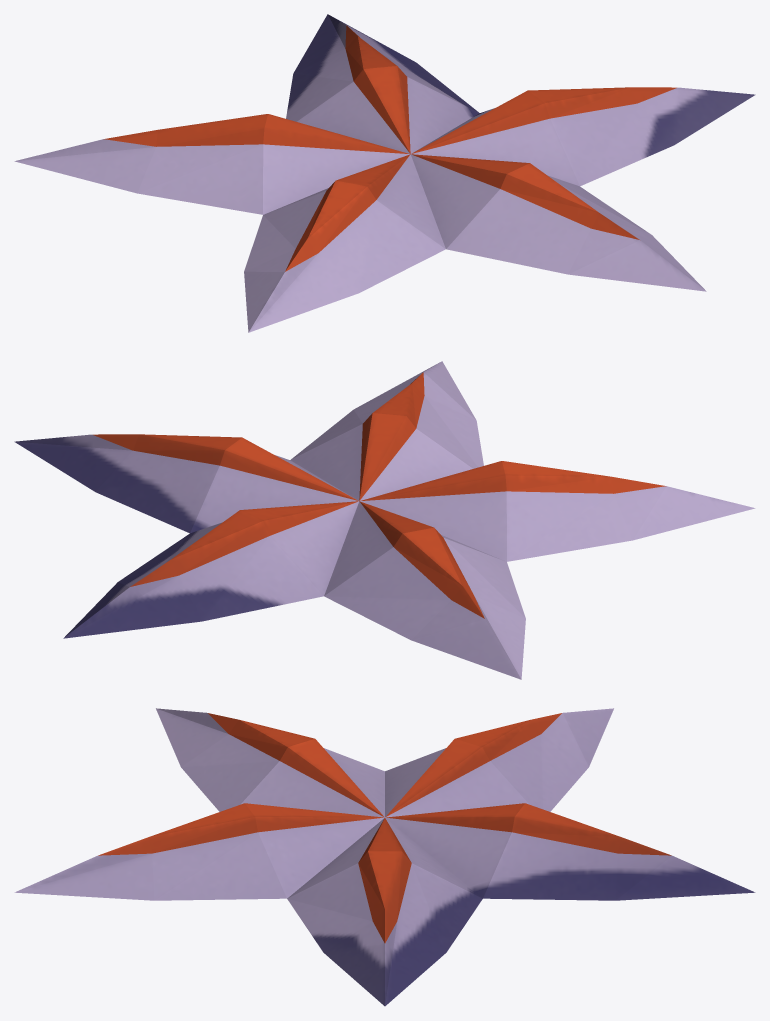
Rendered from Starfish_01.FBX.
3 renders of one model, top to bottom at view 1: azimuth 30°, elevation 25°; view 2: azimuth 150°, elevation 25°; view 3: azimuth 270°, elevation 25°, orthographic. The views are drawn at different scales.
Parts seen in each view (by area): view 1: Starfish_01; view 2: Starfish_01; view 3: Starfish_01.
Part boxes in pixels (x1,y1,x2,y2): Starfish_01: (14,14,755,332); Starfish_01: (14,361,755,679); Starfish_01: (14,708,755,1006).
Size of the model in its own units: 3.94 by 0.4045 by 4.15.
